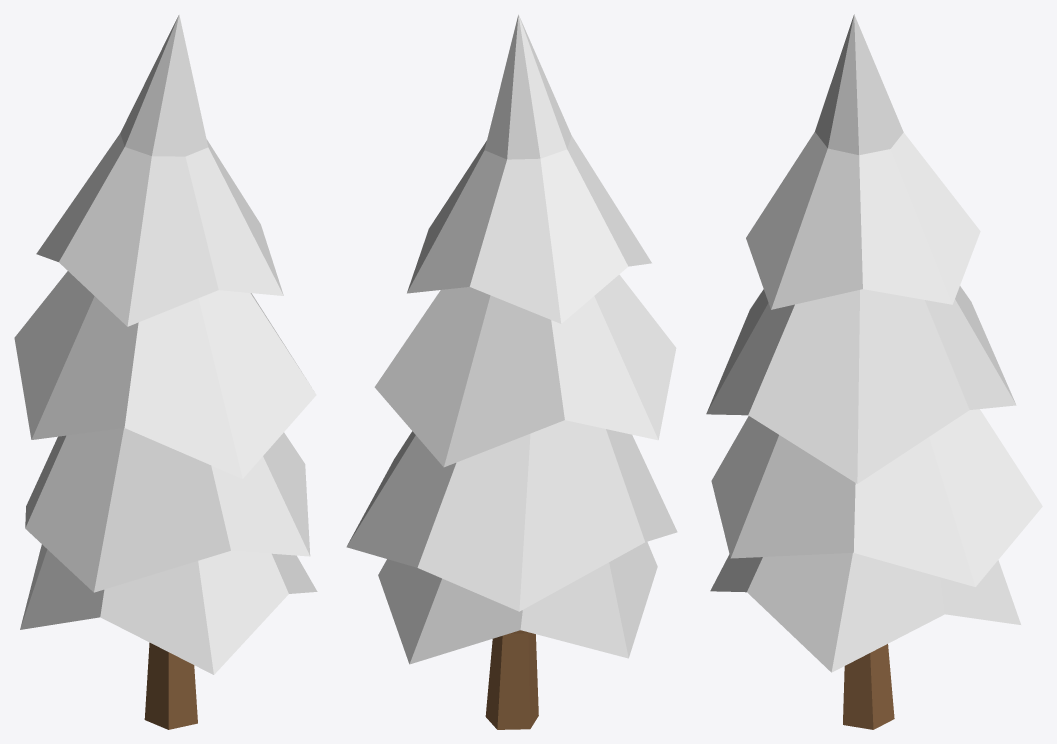
File: Pine_Tree_OneSided_m_Snow_06.fbx
3 renders of one model, left to right at view 1: azimuth 30°, elevation 25°; view 2: azimuth 150°, elevation 25°; view 3: azimuth 270°, elevation 25°, orthographic.
Visible parts, largest first — view 1: Pine_Tree_OneSided_m_Snow_06; view 2: Pine_Tree_OneSided_m_Snow_06; view 3: Pine_Tree_OneSided_m_Snow_06.
Boxes of the visible parts, box(x1,y1,x2,y2) form: Pine_Tree_OneSided_m_Snow_06: box(14, 14, 317, 729); Pine_Tree_OneSided_m_Snow_06: box(346, 14, 677, 729); Pine_Tree_OneSided_m_Snow_06: box(706, 14, 1042, 729).
Size of the model in its own units: 375 by 935 by 405.
